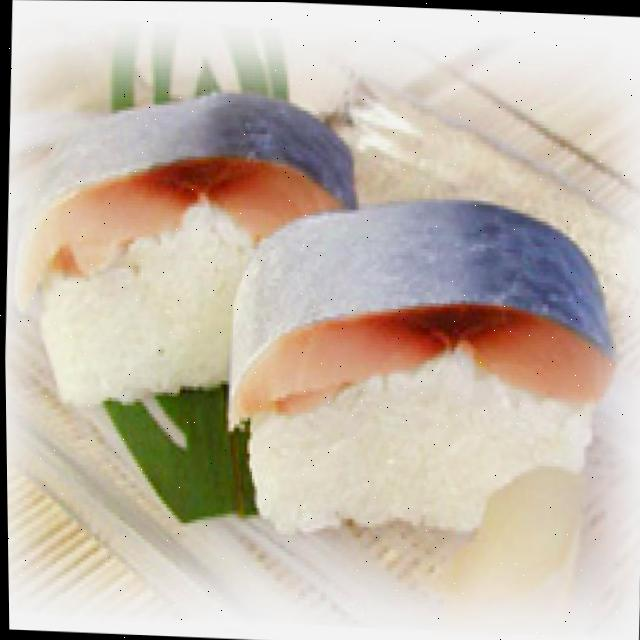寿司卷物: (1, 68, 640, 562)
